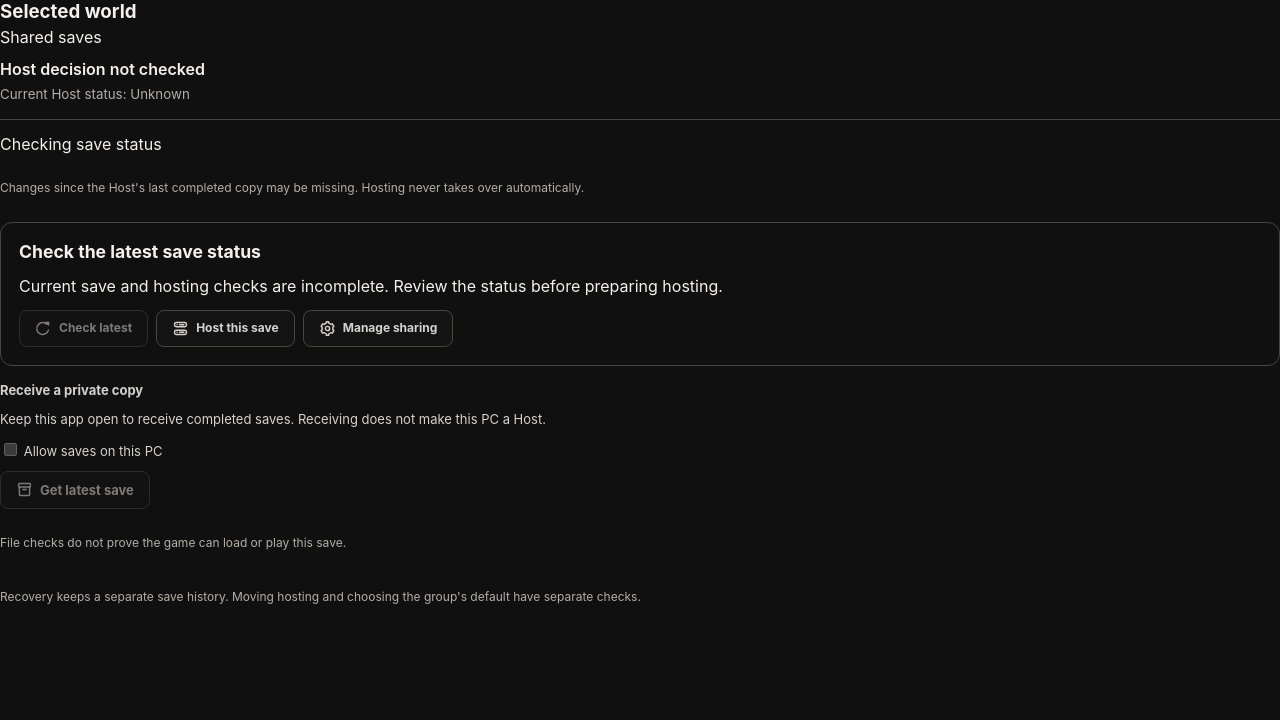
shared-save UX evidence › compares every signed save without requesting a group or owner decision until clicked
The image size is (1280, 720).
Click the button "Manage sharing" at (378, 328), box [303, 310, 453, 347]
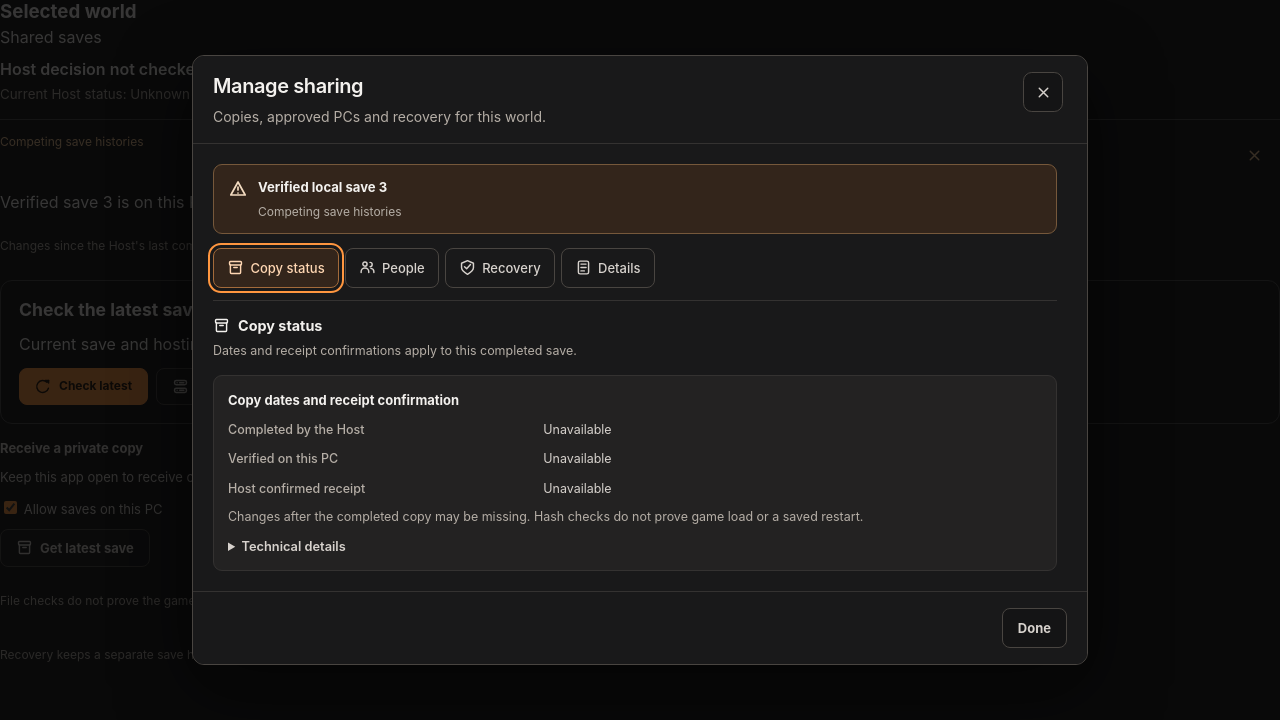
Note: Management is open.
Click the button "Recovery" at (500, 268), box [445, 248, 555, 288]
(page scrolled)
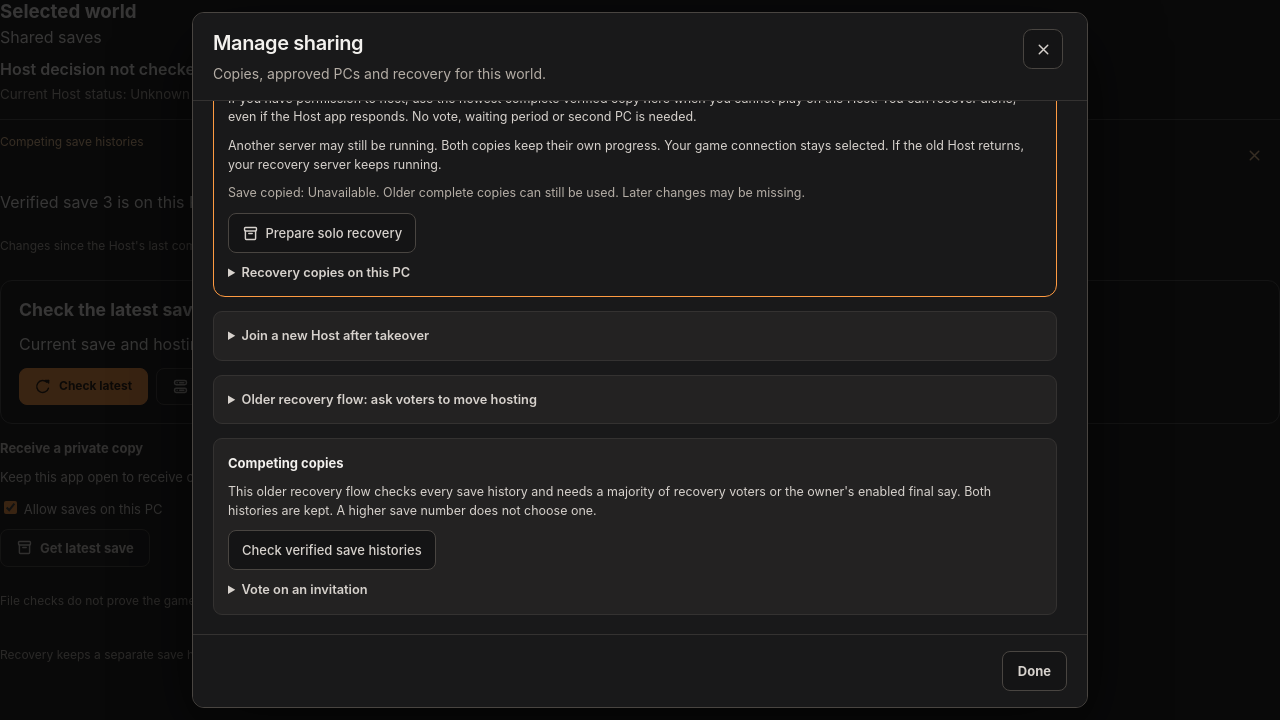
Click the button "Check verified save histories" at (332, 550), box [228, 530, 436, 570]
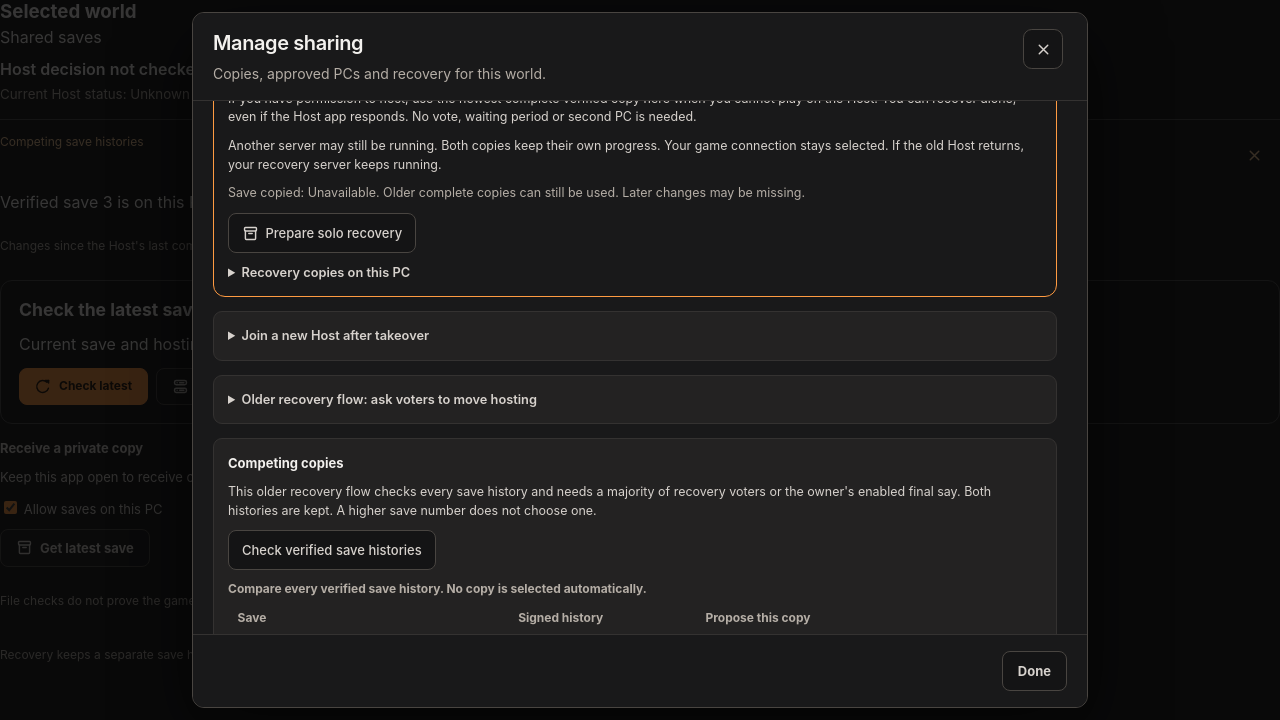
Expected: the text "Both histories are kept" is shown, [228, 484, 991, 518]
Expected: the table named "Compare competing save histories" shows "No copy is selected automatically", [228, 581, 647, 596]
